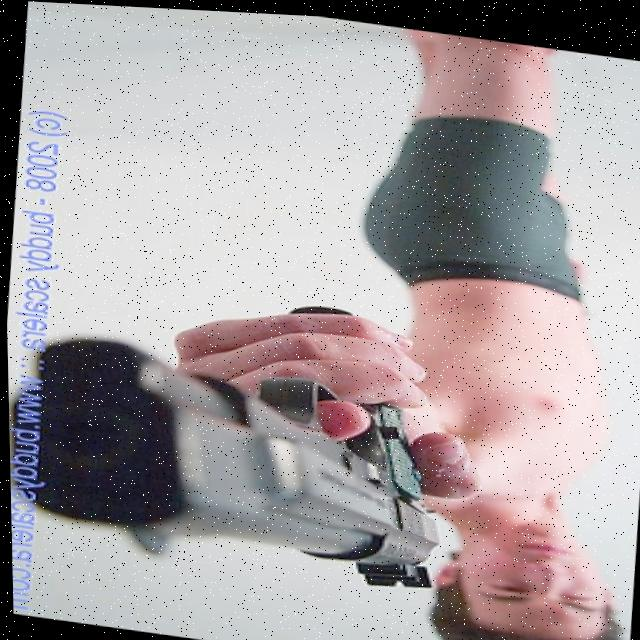pistol: (6, 323, 452, 597)
